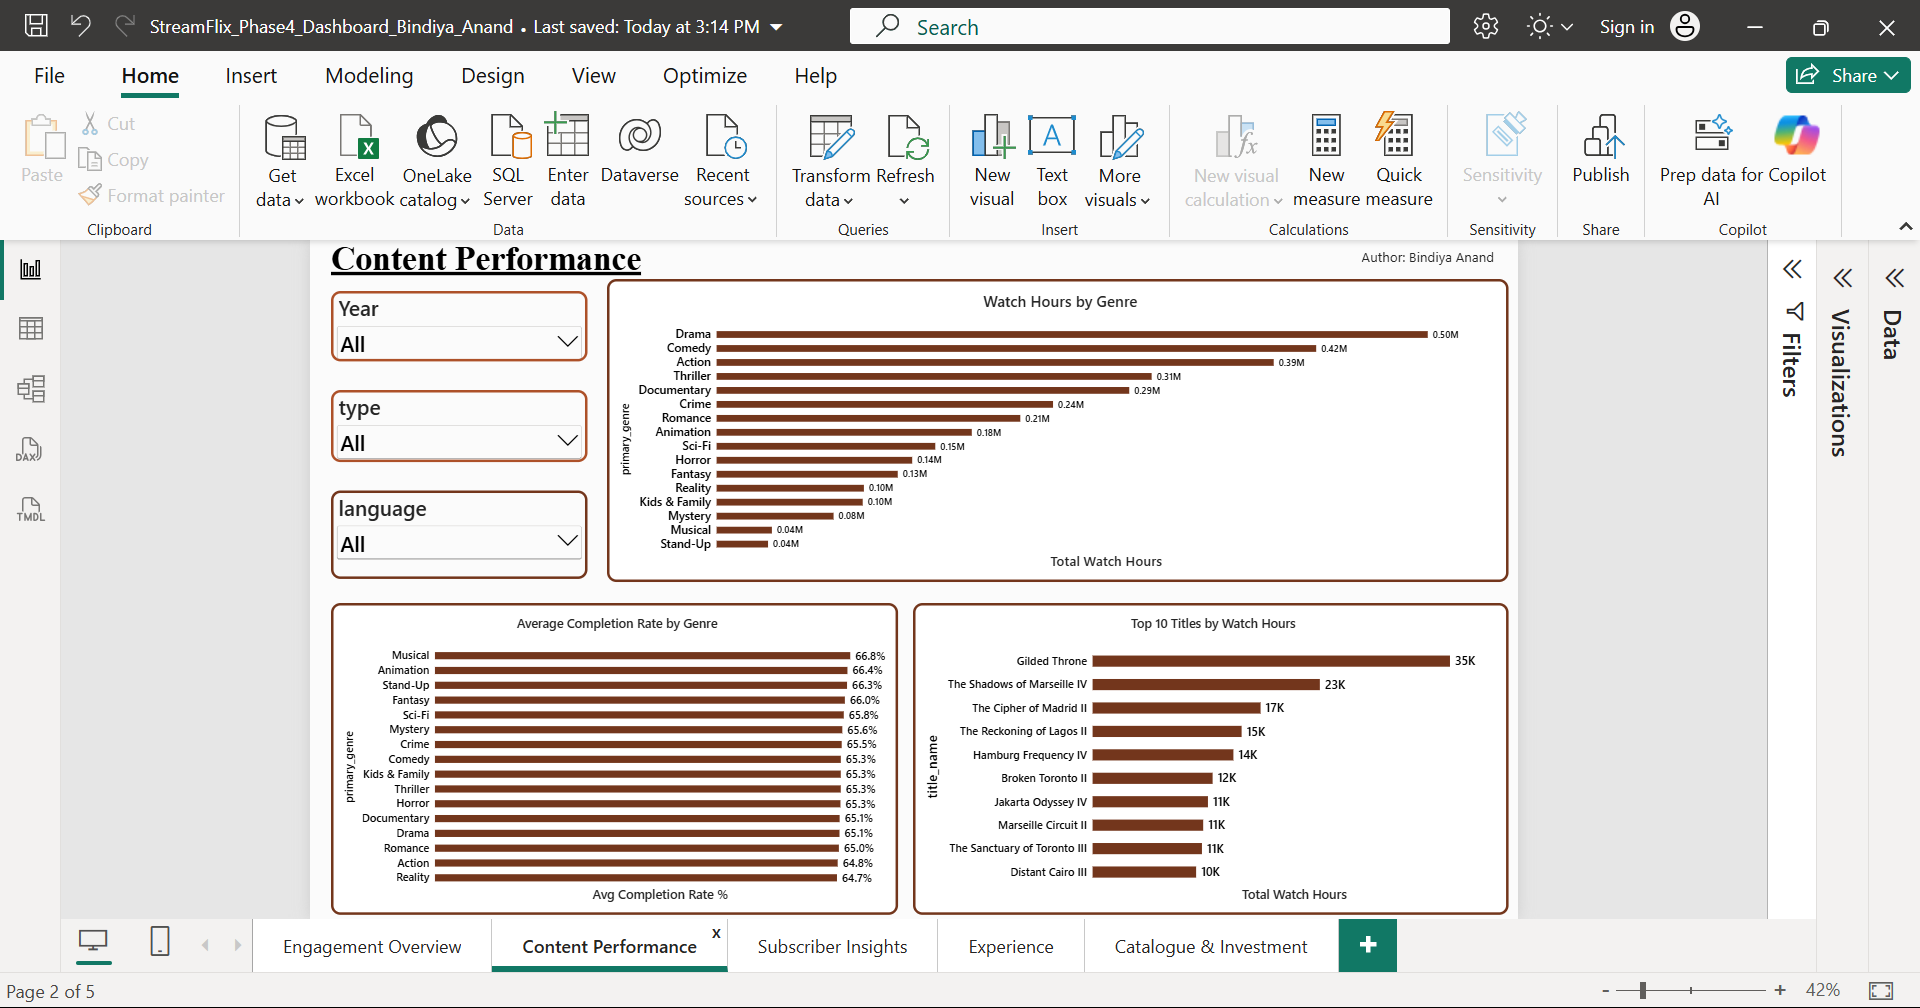

What the dashboard file says about the page in this screenshot:
{"tool":"powerbi","page":{"name":"Content Performance","canvas":[1920,1080],"ordinal":1},"visuals":[{"type":"textbox","box":[33.4,0,503.4,62],"z":0},{"type":"textbox","box":[1672.5,11.9,233.8,35.8],"z":1000},{"type":"clusteredBarChart","title":"Watch Hours by Genre","fields":{"Category":["titles.primary_genre"],"Y":["Sum(titles.total_watch_hours)"]},"box":[472.4,62,1433.9,482],"z":2000},{"type":"clusteredBarChart","title":"Top 10 Titles by Watch Hours","fields":{"Category":["titles.title_name"],"Y":["Sum(titles.total_watch_hours)"]},"box":[959.1,577.4,947.2,496.3],"z":3000},{"type":"clusteredBarChart","title":"Average Completion Rate by Genre","fields":{"Category":["titles.primary_genre"],"Y":["_Measures.Avg Completion Rate %"]},"box":[33.4,577.4,901.9,496.3],"z":4000},{"type":"slicer","fields":{"Values":["titles.type"]},"box":[33.4,238.6,408,114.5],"z":5000},{"type":"slicer","fields":{"Values":["DimDate.Year"]},"box":[33.4,81.1,408,112.1],"z":6000},{"type":"slicer","fields":{"Values":["titles.language"]},"box":[33.4,398.4,408,140.8],"z":7000}]}

Visuals, with their boxes on the page's 1920x1080 design canvas (x1, y1, x2, y2). These are canvas units, not pixel positions in the 1920x1008 screenshot, which may show the page scaled, cropped or inside an application window:
textbox: x1=33 y1=0 x2=537 y2=62
textbox: x1=1672 y1=12 x2=1906 y2=48
"Watch Hours by Genre" clusteredBarChart: x1=472 y1=62 x2=1906 y2=544
"Top 10 Titles by Watch Hours" clusteredBarChart: x1=959 y1=577 x2=1906 y2=1074
"Average Completion Rate by Genre" clusteredBarChart: x1=33 y1=577 x2=935 y2=1074
slicer - titles.type: x1=33 y1=239 x2=441 y2=353
slicer - DimDate.Year: x1=33 y1=81 x2=441 y2=193
slicer - titles.language: x1=33 y1=398 x2=441 y2=539
